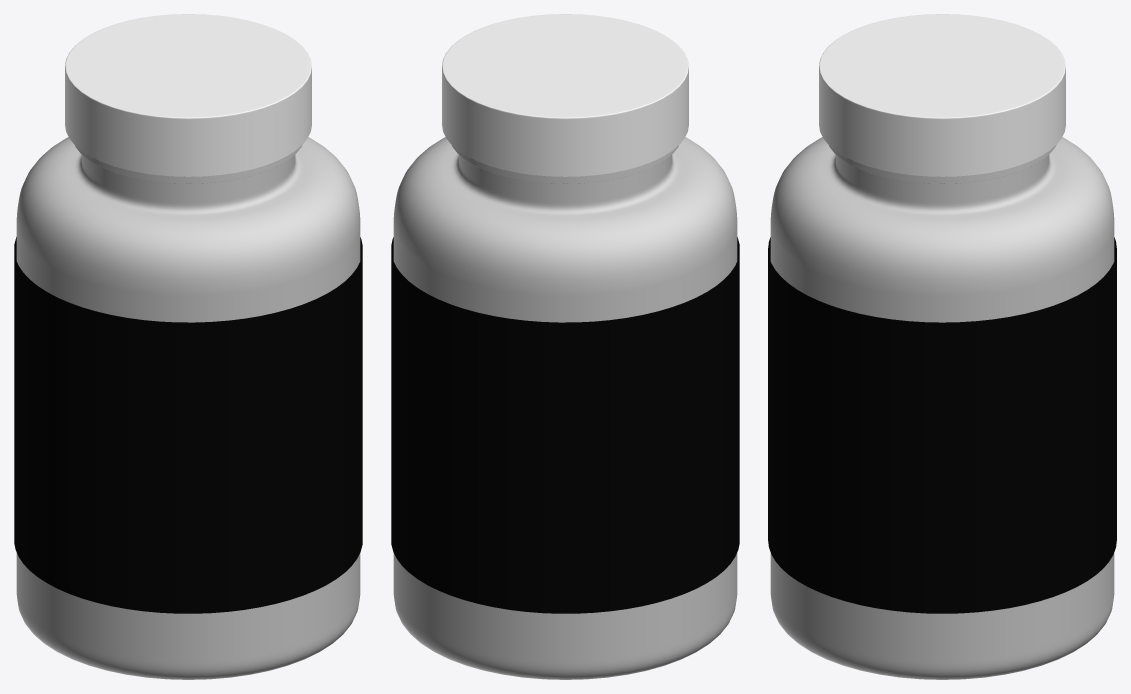
File: bote3D_v4.glb
3 views of the same model, side by side, from view 1: azimuth 30°, elevation 25°; view 2: azimuth 150°, elevation 25°; view 3: azimuth 270°, elevation 25° (orthographic).
Visible parts, largest first — view 1: jar_label, jar_body, jar_cap; view 2: jar_label, jar_body, jar_cap; view 3: jar_label, jar_body, jar_cap.
Part boxes in pixels (left/top/right/bottom): jar_label: left=14, top=237, right=362, bottom=613; jar_body: left=16, top=137, right=360, bottom=679; jar_cap: left=65, top=14, right=311, bottom=176; jar_label: left=391, top=237, right=739, bottom=613; jar_body: left=393, top=137, right=737, bottom=679; jar_cap: left=442, top=14, right=688, bottom=176; jar_label: left=768, top=237, right=1116, bottom=613; jar_body: left=770, top=137, right=1114, bottom=679; jar_cap: left=819, top=14, right=1065, bottom=176.
Bounding box in the file's own units: 0.0644 × 0.1117 × 0.0644.
Materials: 3 (1 with a texture image).
